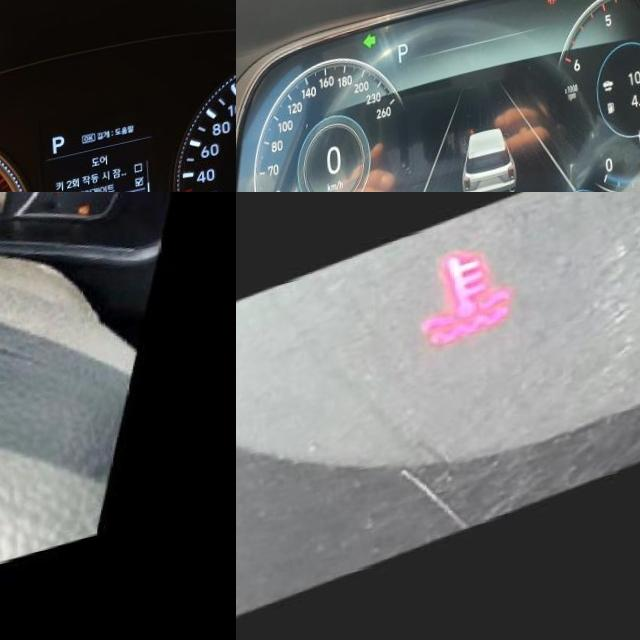Engine cooling system: (402, 253, 513, 378)
